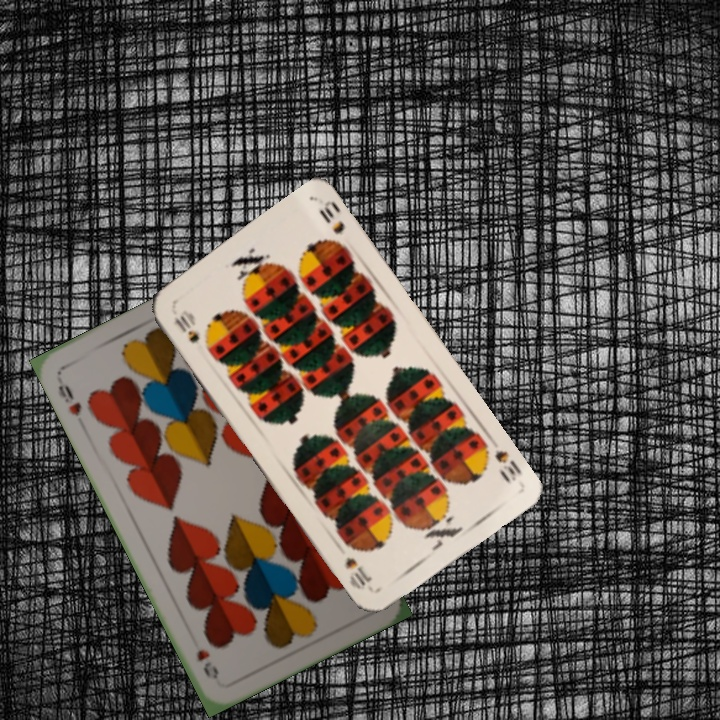H9: (54, 381, 84, 419)
S10: (490, 446, 525, 486), (170, 311, 202, 346)
